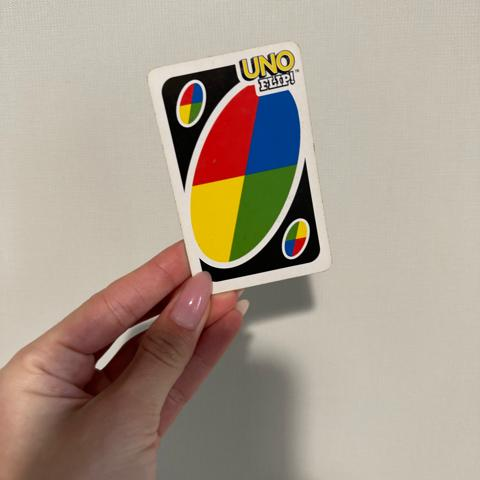lcolor-40: (170, 74, 208, 131)
